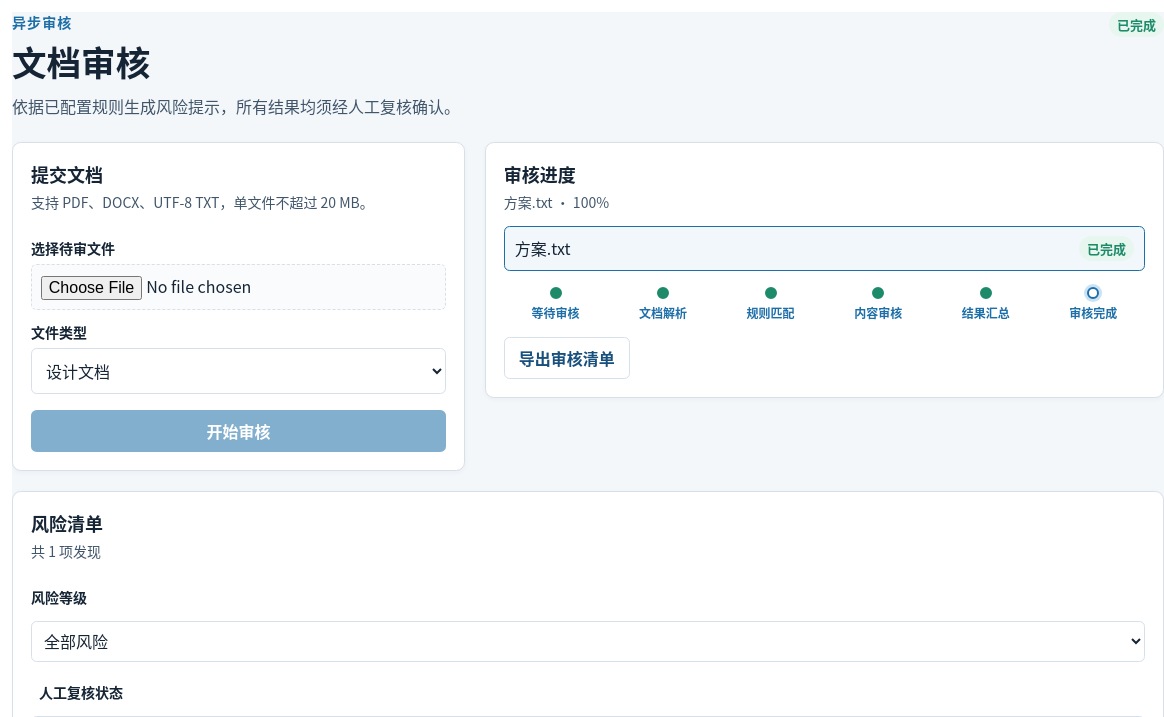
Scenario: reports a CSV export failure without creating a download anchor
Expected: the button "方案.txt 已完成" is shown, [504,226,1145,271]
What coordinates should you click on to do the following:
click the button "导出审核清单"
I would click on:
 (567, 358)
Its box is [504,337,630,379].
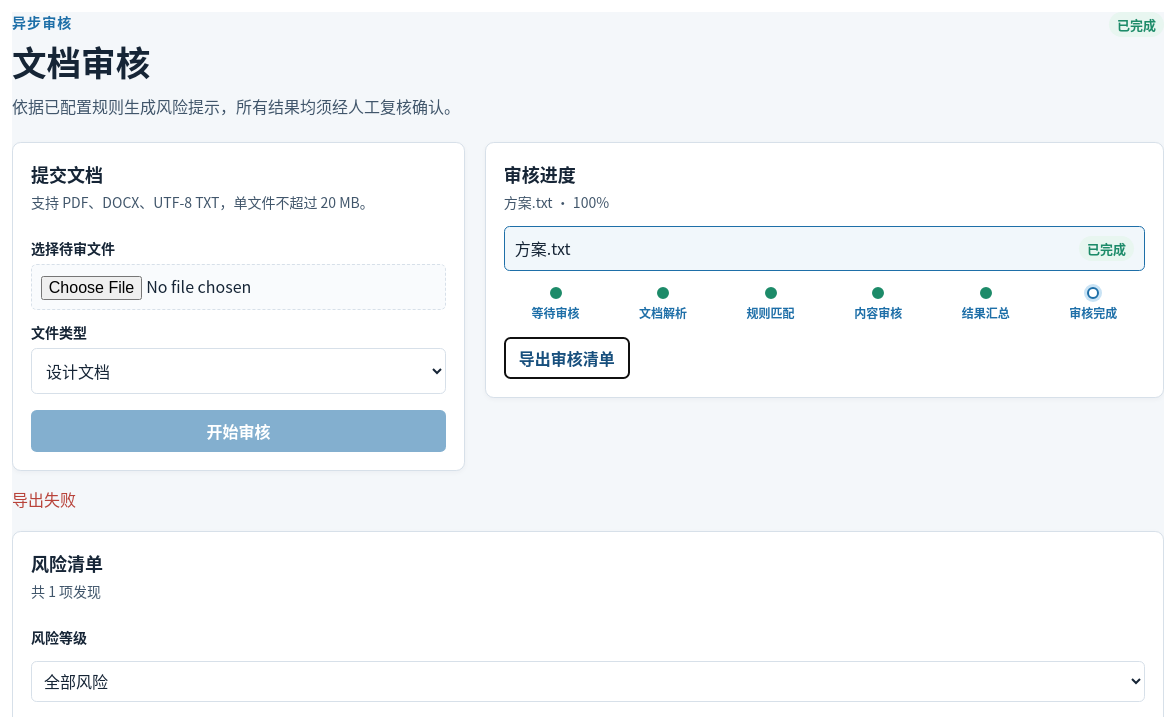
Expected: the message reads "导出失败", [12,487,76,511]
